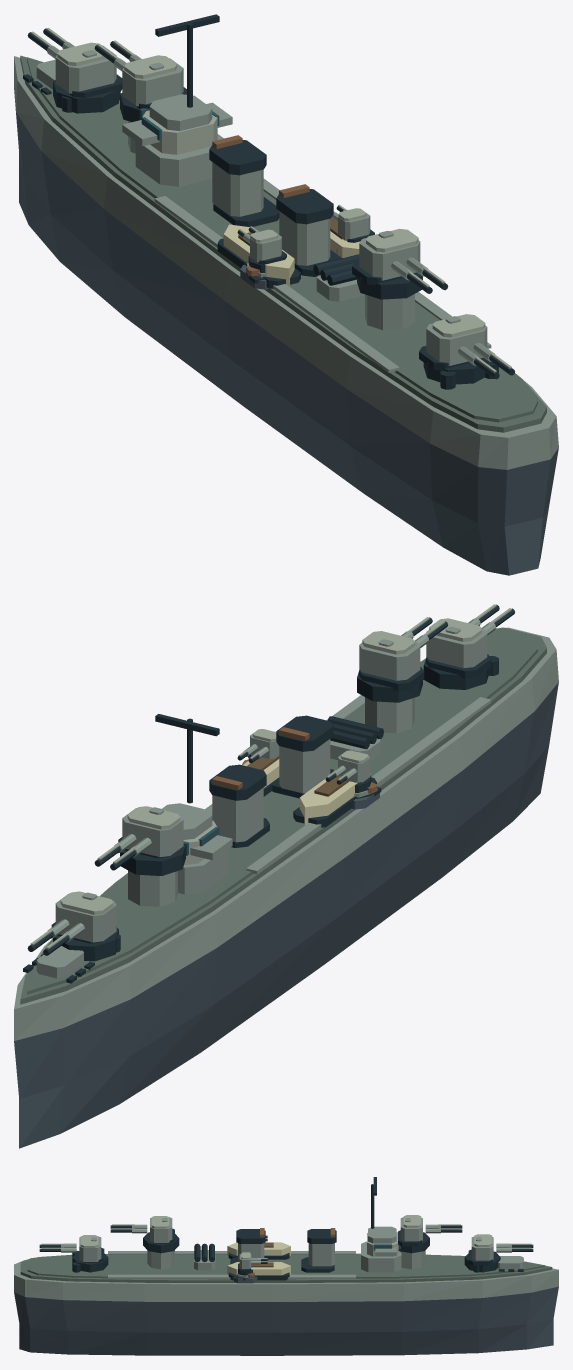
Rendered from historic-cossack.glb.
3 renders of one model, top to bottom at view 1: azimuth 30°, elevation 25°; view 2: azimuth 150°, elevation 25°; view 3: azimuth 270°, elevation 25°, orthographic. The views are drawn at different scales.
Parts seen in each view (by area): view 1: historic-cossack-historic-cossack-geometry, historic-cossack-part_bridge.019-geometry, historic-cossack-historic_funnel_0.020-geometry, historic-cossack-turret_main_2.013-geometry, historic-cossack-turret_main_0.014-geometry, historic-cossack-turret_main_3.006-geometry, historic-cossack-historic_funnel_1.008-geometry, historic-cossack-turret_main_1.013-geometry, historic-cossack-torpedo_bank_0.001-geometry, historic-cossack-turret_aa_aa-port.021-geometry, historic-cossack-turret_aa_aa-starboard.019-geometry; view 2: historic-cossack-historic-cossack-geometry, historic-cossack-turret_main_2.013-geometry, historic-cossack-part_bridge.019-geometry, historic-cossack-turret_main_3.006-geometry, historic-cossack-turret_main_1.013-geometry, historic-cossack-turret_main_0.014-geometry, historic-cossack-historic_funnel_0.020-geometry, historic-cossack-historic_funnel_1.008-geometry, historic-cossack-torpedo_bank_0.001-geometry, historic-cossack-turret_aa_aa-port.021-geometry, historic-cossack-turret_aa_aa-starboard.019-geometry; view 3: historic-cossack-historic-cossack-geometry, historic-cossack-part_bridge.019-geometry, historic-cossack-turret_main_2.013-geometry, historic-cossack-turret_main_0.014-geometry, historic-cossack-turret_main_3.006-geometry, historic-cossack-turret_main_1.013-geometry, historic-cossack-historic_funnel_0.020-geometry, historic-cossack-historic_funnel_1.008-geometry, historic-cossack-torpedo_bank_0.001-geometry, historic-cossack-turret_aa_aa-starboard.019-geometry.
Boxes of the visible parts, x1,y1,x2,y2 form: historic-cossack-historic-cossack-geometry: (14,55,558,575); historic-cossack-part_bridge.019-geometry: (122,14,232,186); historic-cossack-historic_funnel_0.020-geometry: (209,135,279,226); historic-cossack-turret_main_2.013-geometry: (352,228,448,299); historic-cossack-turret_main_0.014-geometry: (27,28,122,113); historic-cossack-turret_main_3.006-geometry: (419,314,514,384); historic-cossack-historic_funnel_1.008-geometry: (276,184,341,276); historic-cossack-turret_main_1.013-geometry: (94,40,186,121); historic-cossack-torpedo_bank_0.001-geometry: (313,254,364,301); historic-cossack-turret_aa_aa-port.021-geometry: (237,226,286,272); historic-cossack-turret_aa_aa-starboard.019-geometry: (331,204,374,242); historic-cossack-historic-cossack-geometry: (14,627,558,1148); historic-cossack-turret_main_2.013-geometry: (357,617,447,702); historic-cossack-part_bridge.019-geometry: (155,714,232,894); historic-cossack-turret_main_3.006-geometry: (423,604,514,689); historic-cossack-turret_main_1.013-geometry: (94,806,185,875); historic-cossack-turret_main_0.014-geometry: (27,891,118,961); historic-cossack-historic_funnel_0.020-geometry: (209,764,269,847); historic-cossack-historic_funnel_1.008-geometry: (271,715,333,798); historic-cossack-torpedo_bank_0.001-geometry: (327,716,383,761); historic-cossack-turret_aa_aa-port.021-geometry: (325,750,371,792); historic-cossack-turret_aa_aa-starboard.019-geometry: (237,729,279,763); historic-cossack-historic-cossack-geometry: (14,1242,558,1355); historic-cossack-part_bridge.019-geometry: (361,1177,401,1272); historic-cossack-turret_main_2.013-geometry: (110,1216,179,1253); historic-cossack-turret_main_0.014-geometry: (464,1234,533,1272); historic-cossack-turret_main_3.006-geometry: (39,1235,108,1272); historic-cossack-turret_main_1.013-geometry: (398,1215,462,1253); historic-cossack-historic_funnel_0.020-geometry: (301,1228,336,1272); historic-cossack-historic_funnel_1.008-geometry: (230,1228,265,1264); historic-cossack-torpedo_bank_0.001-geometry: (194,1243,215,1270); historic-cossack-turret_aa_aa-starboard.019-geometry: (238,1252,267,1275).
Size of the model in its own units: 0.5875 by 1.34 by 4.11.
